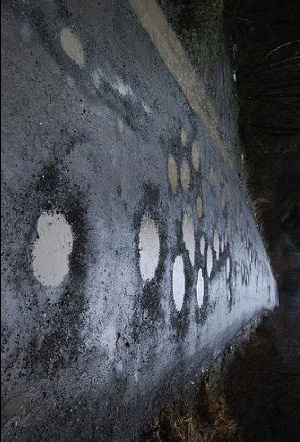pothole: (30, 199, 85, 298), (135, 207, 164, 288), (170, 250, 190, 315), (60, 24, 88, 69), (180, 209, 198, 266), (166, 152, 180, 197), (194, 265, 207, 311), (179, 155, 191, 192), (190, 138, 201, 174), (212, 227, 221, 263), (205, 243, 214, 277), (225, 255, 233, 280), (197, 195, 205, 219)
